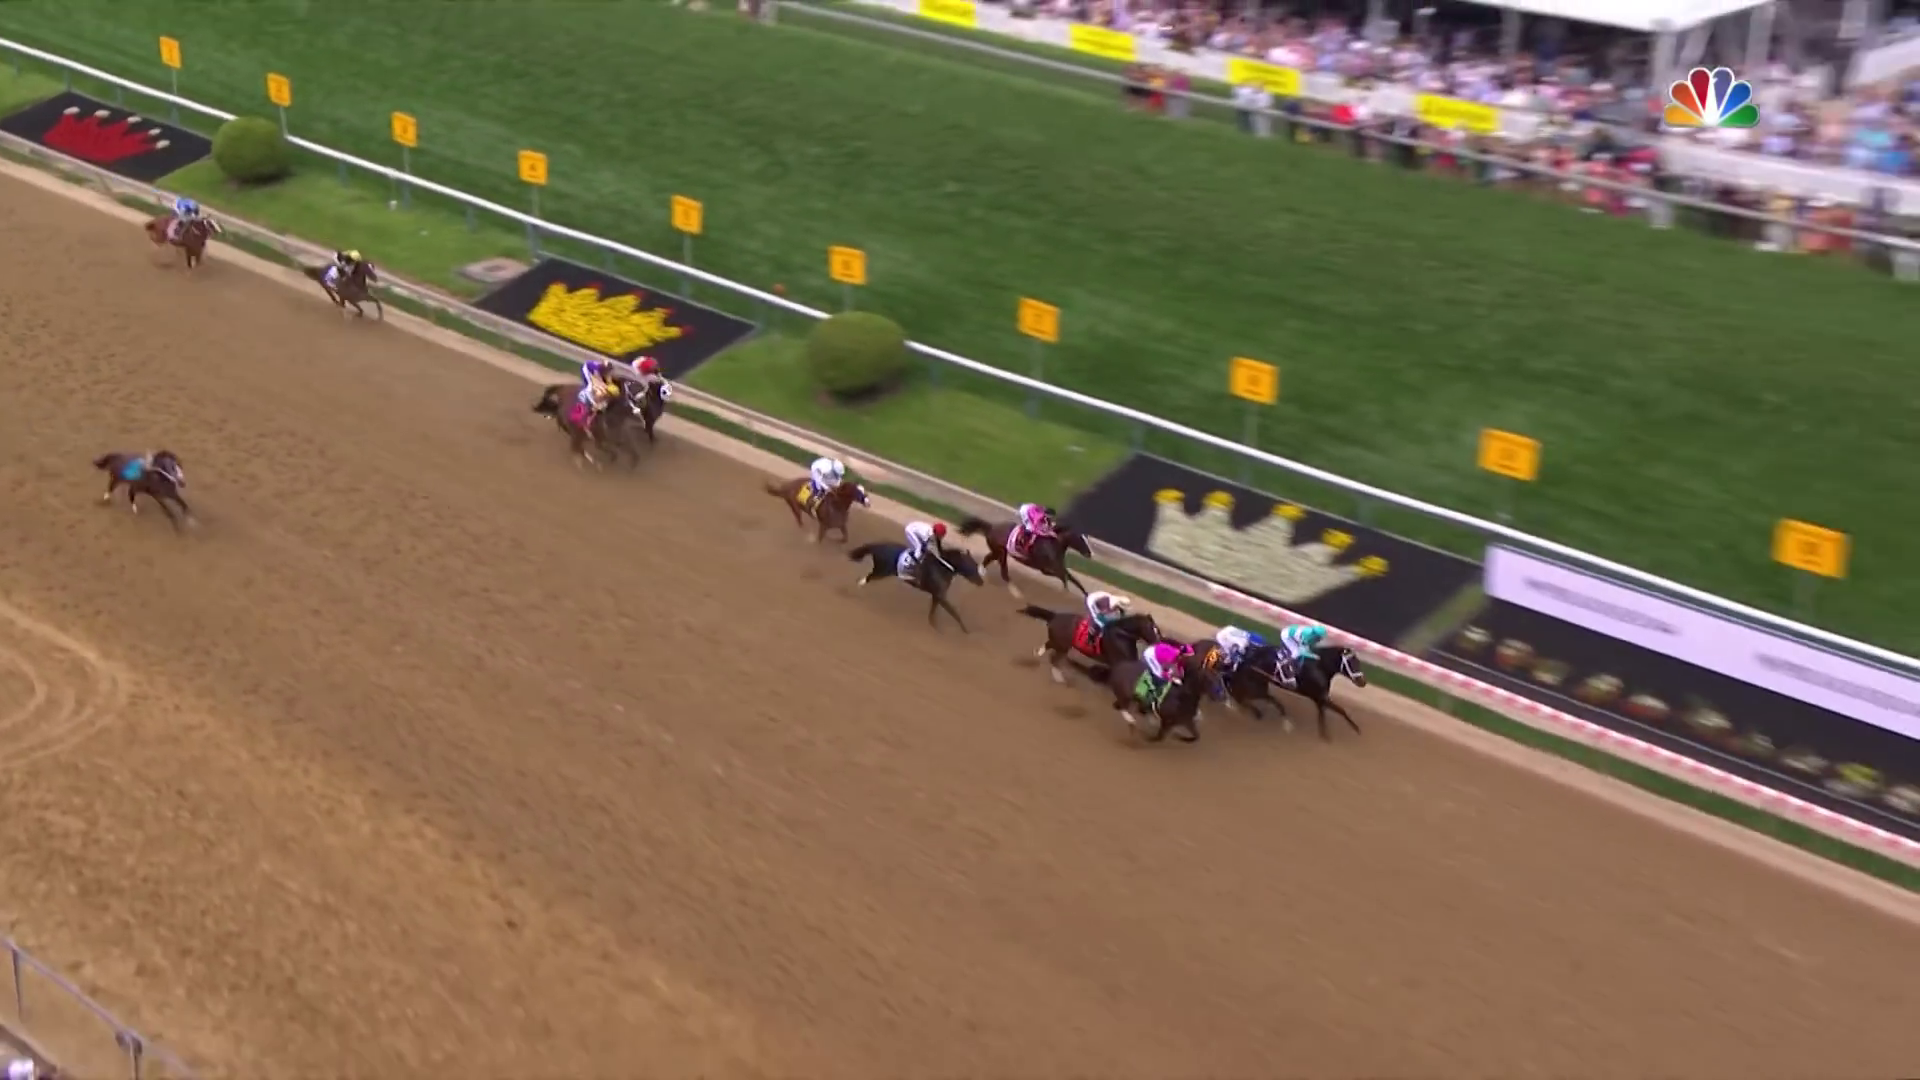jockey: (1280, 622, 1331, 676), (1084, 593, 1131, 647), (1145, 642, 1193, 692), (1217, 625, 1265, 673), (906, 522, 949, 571), (1018, 501, 1058, 554), (810, 456, 848, 502), (580, 386, 615, 435), (334, 249, 363, 291), (583, 357, 615, 392), (632, 357, 661, 394)
